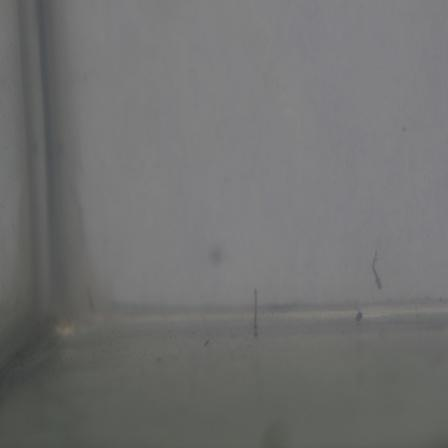Jentik-Nyamuk: (244, 284, 265, 338), (363, 250, 388, 294)
